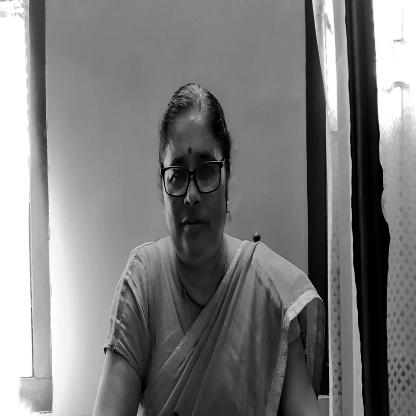Normal: (160, 85, 233, 263)
